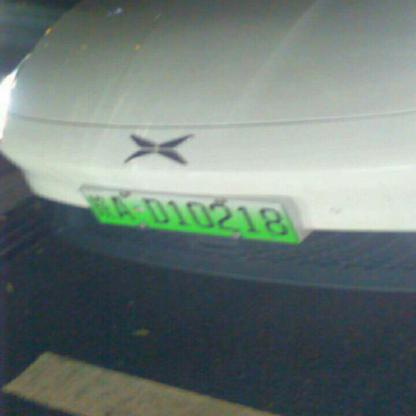lp: (82, 186, 298, 243)
